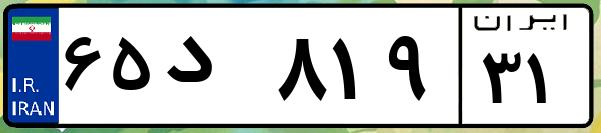1: (330, 28, 385, 110), (525, 38, 570, 115)
3: (475, 38, 525, 113)
5: (110, 28, 158, 98)
6: (57, 26, 110, 100)
8: (270, 28, 330, 110)
9: (385, 28, 445, 110)
د: (158, 20, 270, 120)
